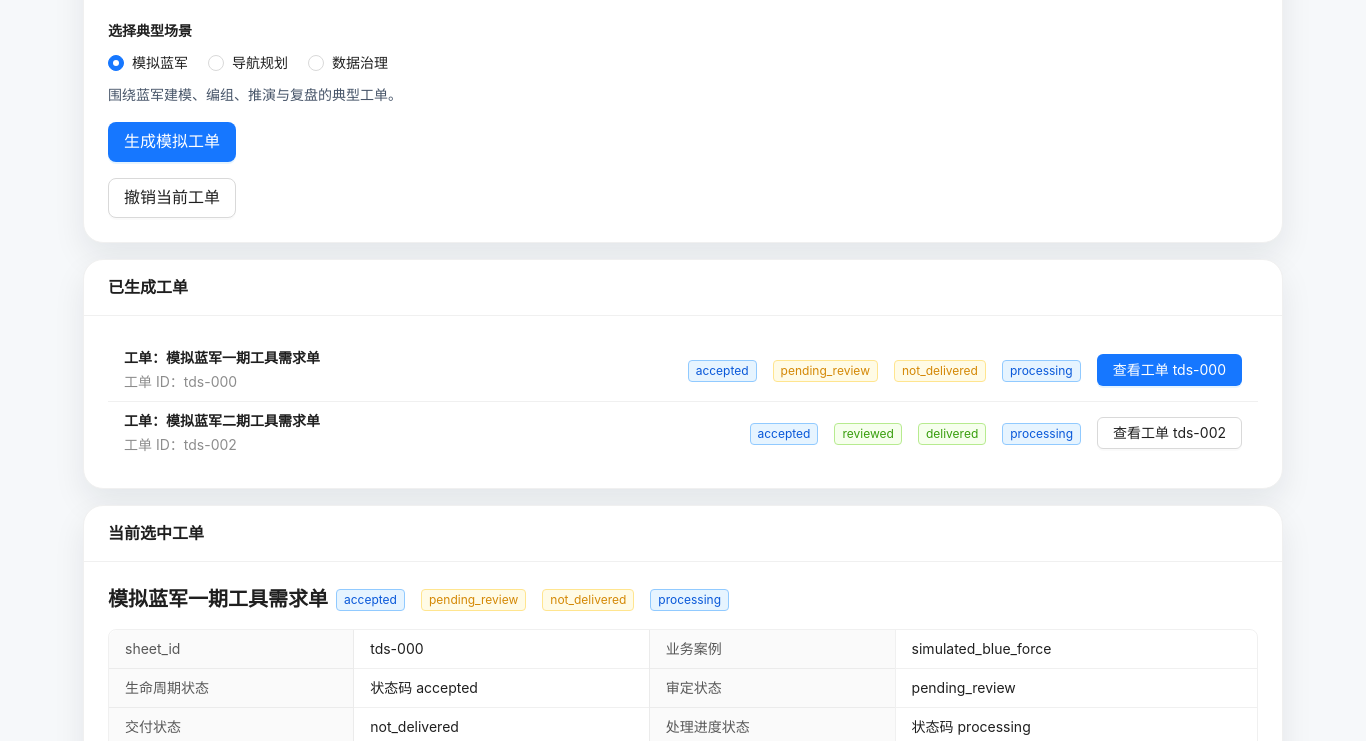
Test: renders P3 simulator lifecycle actions and P5 query views with sheet statuses
The image size is (1366, 741).
Later steps or results of the test are not shown.
(page scrolled)
Expected: the heading "模拟蓝军一期工具需求单" is shown, [108, 585, 328, 613]
Expected: the text "模拟蓝军" is shown, [132, 54, 188, 71]
Click the button "查看工单 tds-000" at [1169, 370], box [1097, 354, 1242, 386]
Expected: the element with id "xx-p3-selected-sheet-card" shows "pending_review", [429, 592, 518, 606]
Expected: the element with id "xx-p3-selected-sheet-card" shows "not_delivered", [550, 592, 626, 606]
Click the button "撤销当前工单" at [172, 198], box [108, 178, 236, 218]
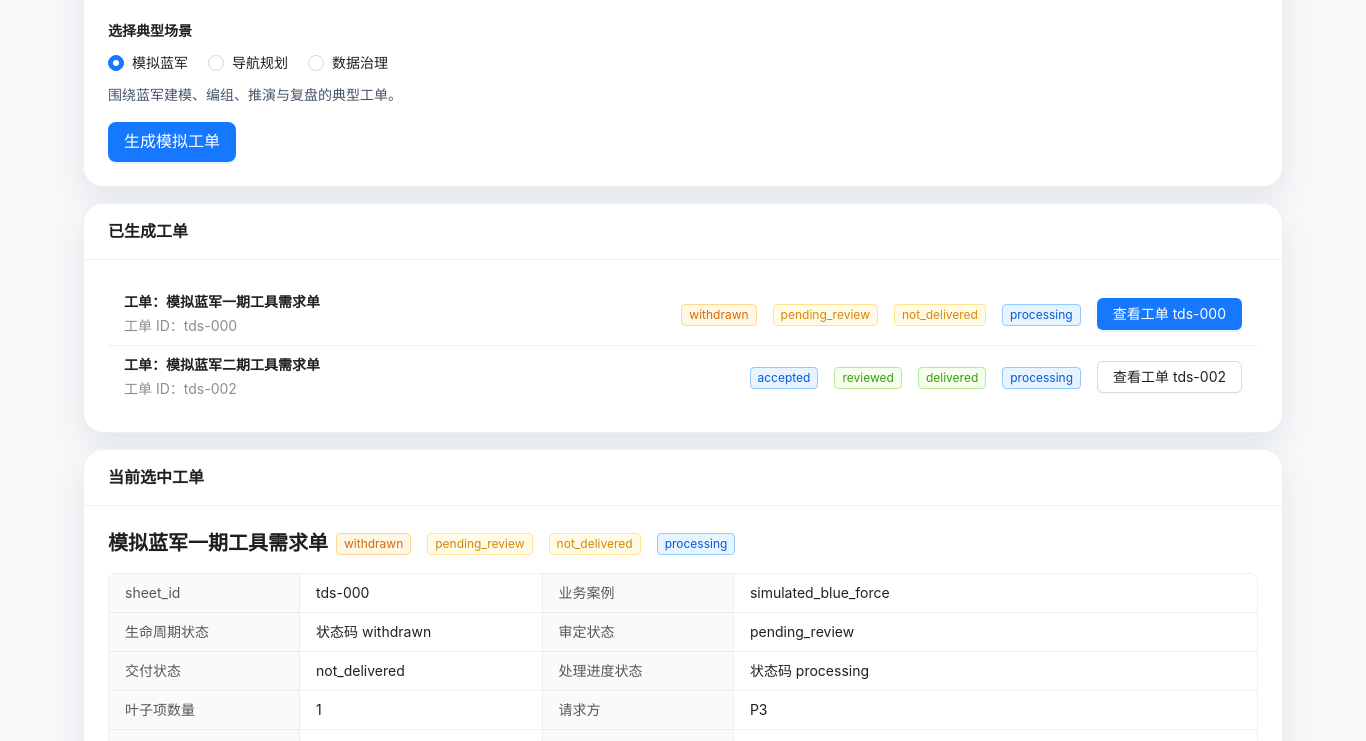
Click the radio button labelled "导航规划" at [252, 63], box [208, 52, 296, 74]
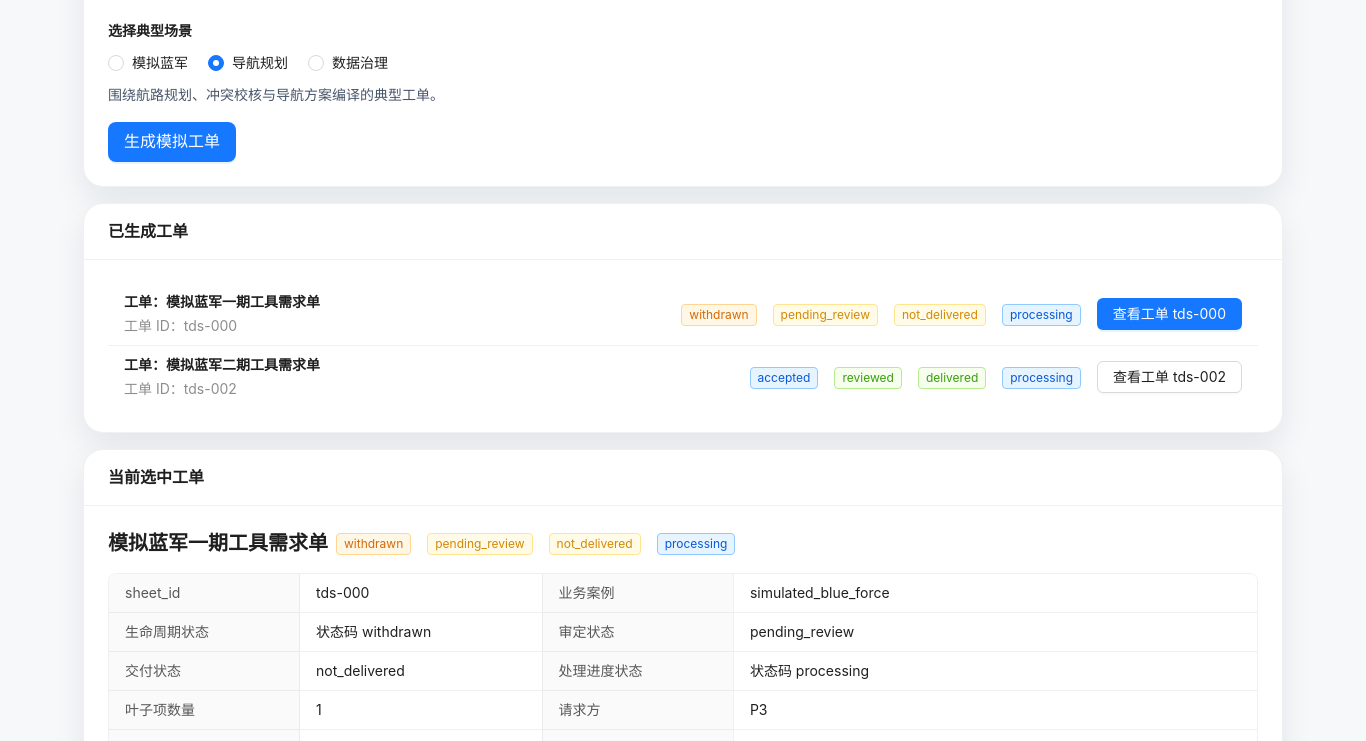
Click the button "生成模拟工单" at [172, 142], box [108, 122, 236, 162]
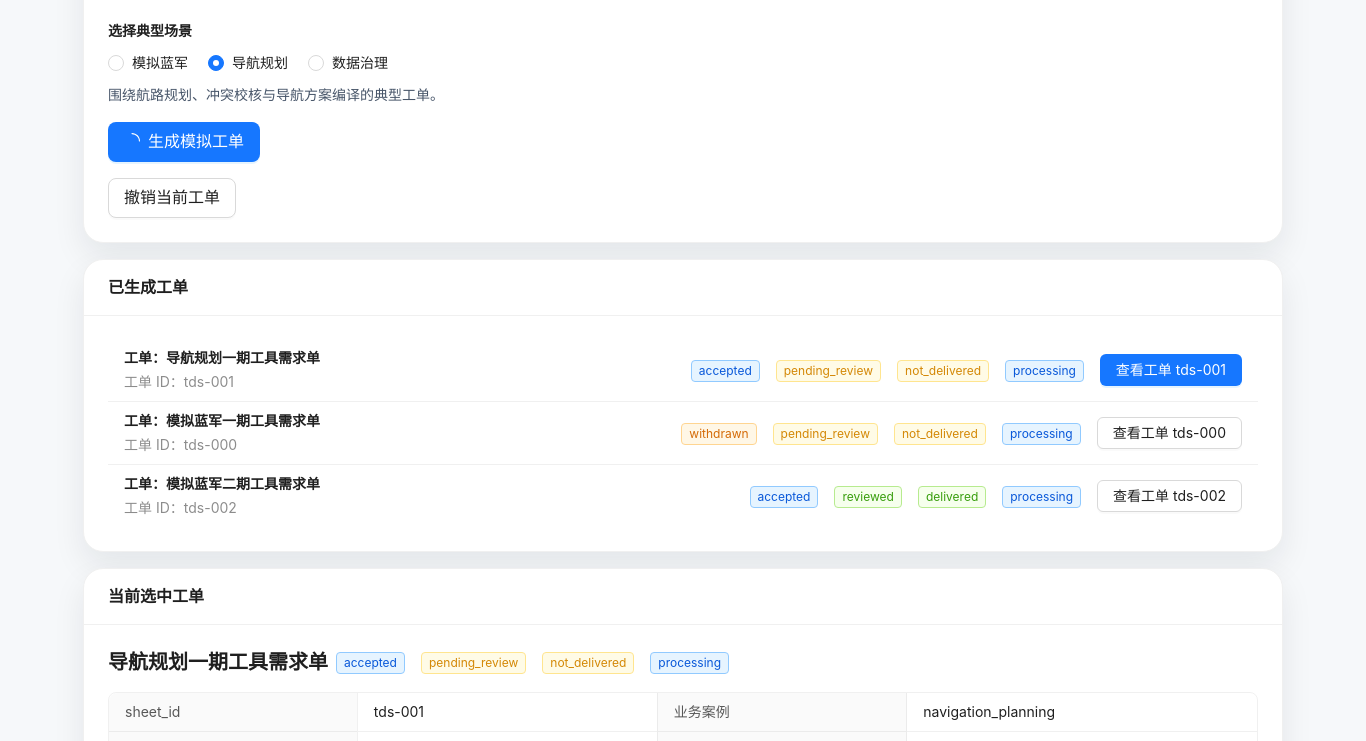
Expected: the text "tds-001" is shown, [374, 703, 424, 720]
Expected: the heading "导航规划一期工具需求单" is shown, [108, 648, 328, 676]
Click the button "查看工单 tds-001" at [1171, 370], box [1100, 354, 1242, 386]
Click the button "撤销当前工单" at [172, 198], box [108, 178, 236, 218]
(page scrolled)
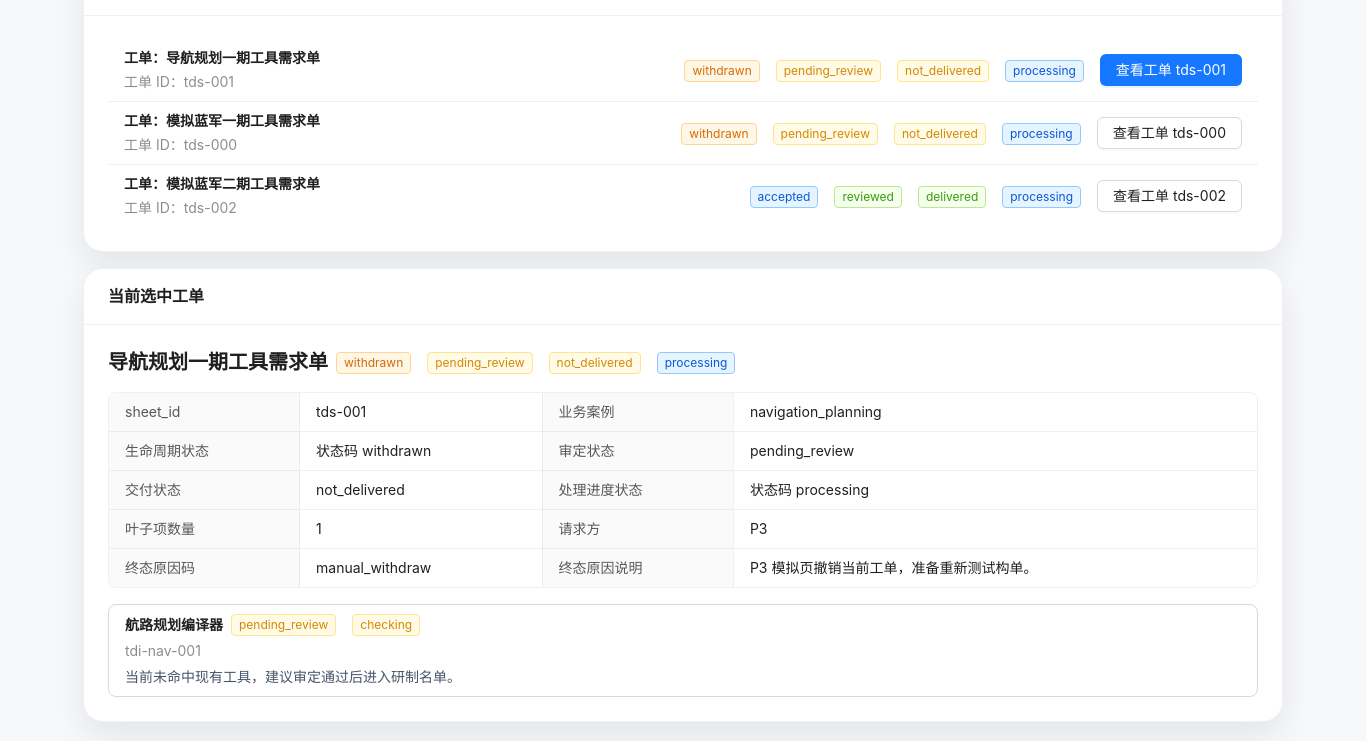
Expected: the element with id "xx-p3-selected-sheet-card" shows "withdrawn", [344, 354, 403, 370]
